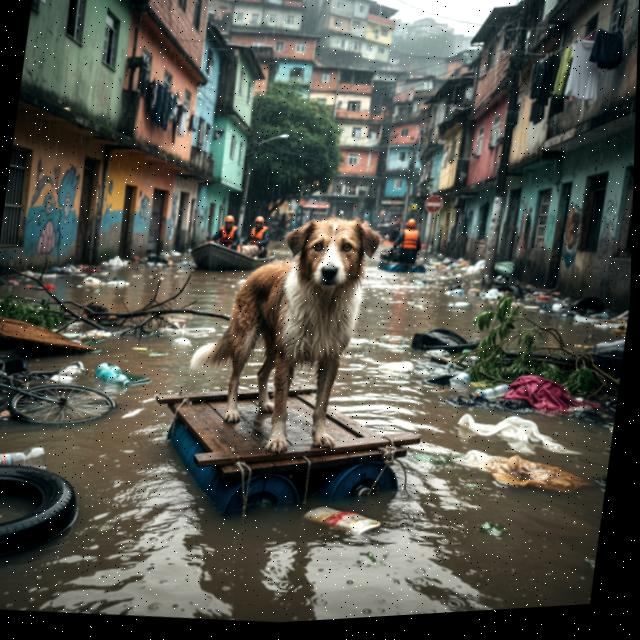dog: (181, 194, 390, 462)
rescuer: (390, 212, 428, 269), (244, 212, 274, 255), (214, 205, 241, 250)
